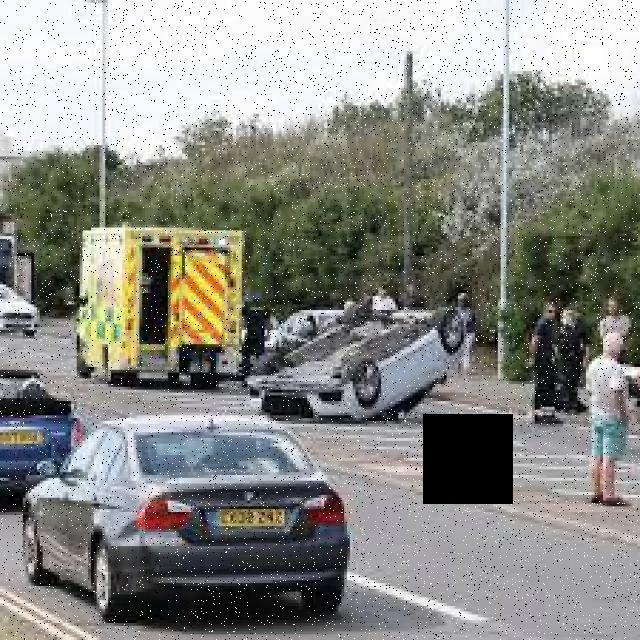accident: (239, 294, 478, 428)
